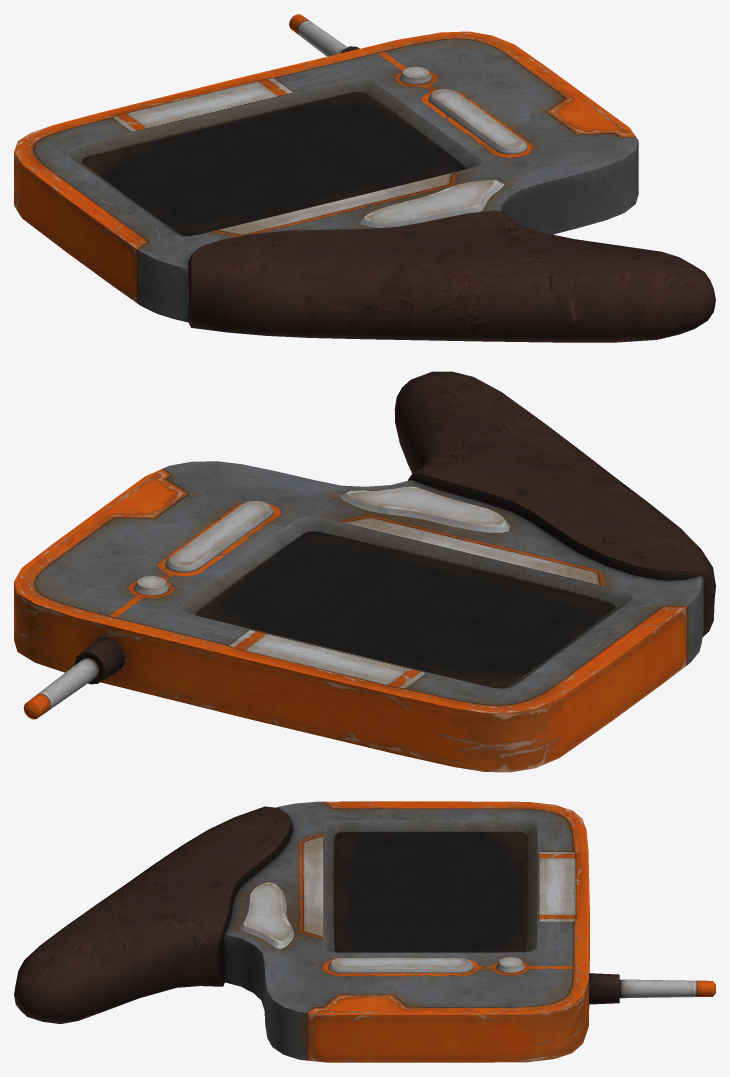
The model's file is diag_tool.DAE.
3 renders of one model, top to bottom at view 1: azimuth 30°, elevation 25°; view 2: azimuth 150°, elevation 25°; view 3: azimuth 270°, elevation 25°, orthographic. The views are drawn at different scales.
Visible parts, largest first — view 1: diag_tool; view 2: diag_tool; view 3: diag_tool.
Part boxes in pixels (x1,y1,x2,y2): diag_tool: (14,14,715,342); diag_tool: (14,371,715,772); diag_tool: (14,801,715,1062).
Bounding box in the file's own units: 21.73 × 3.04 × 30.18.
